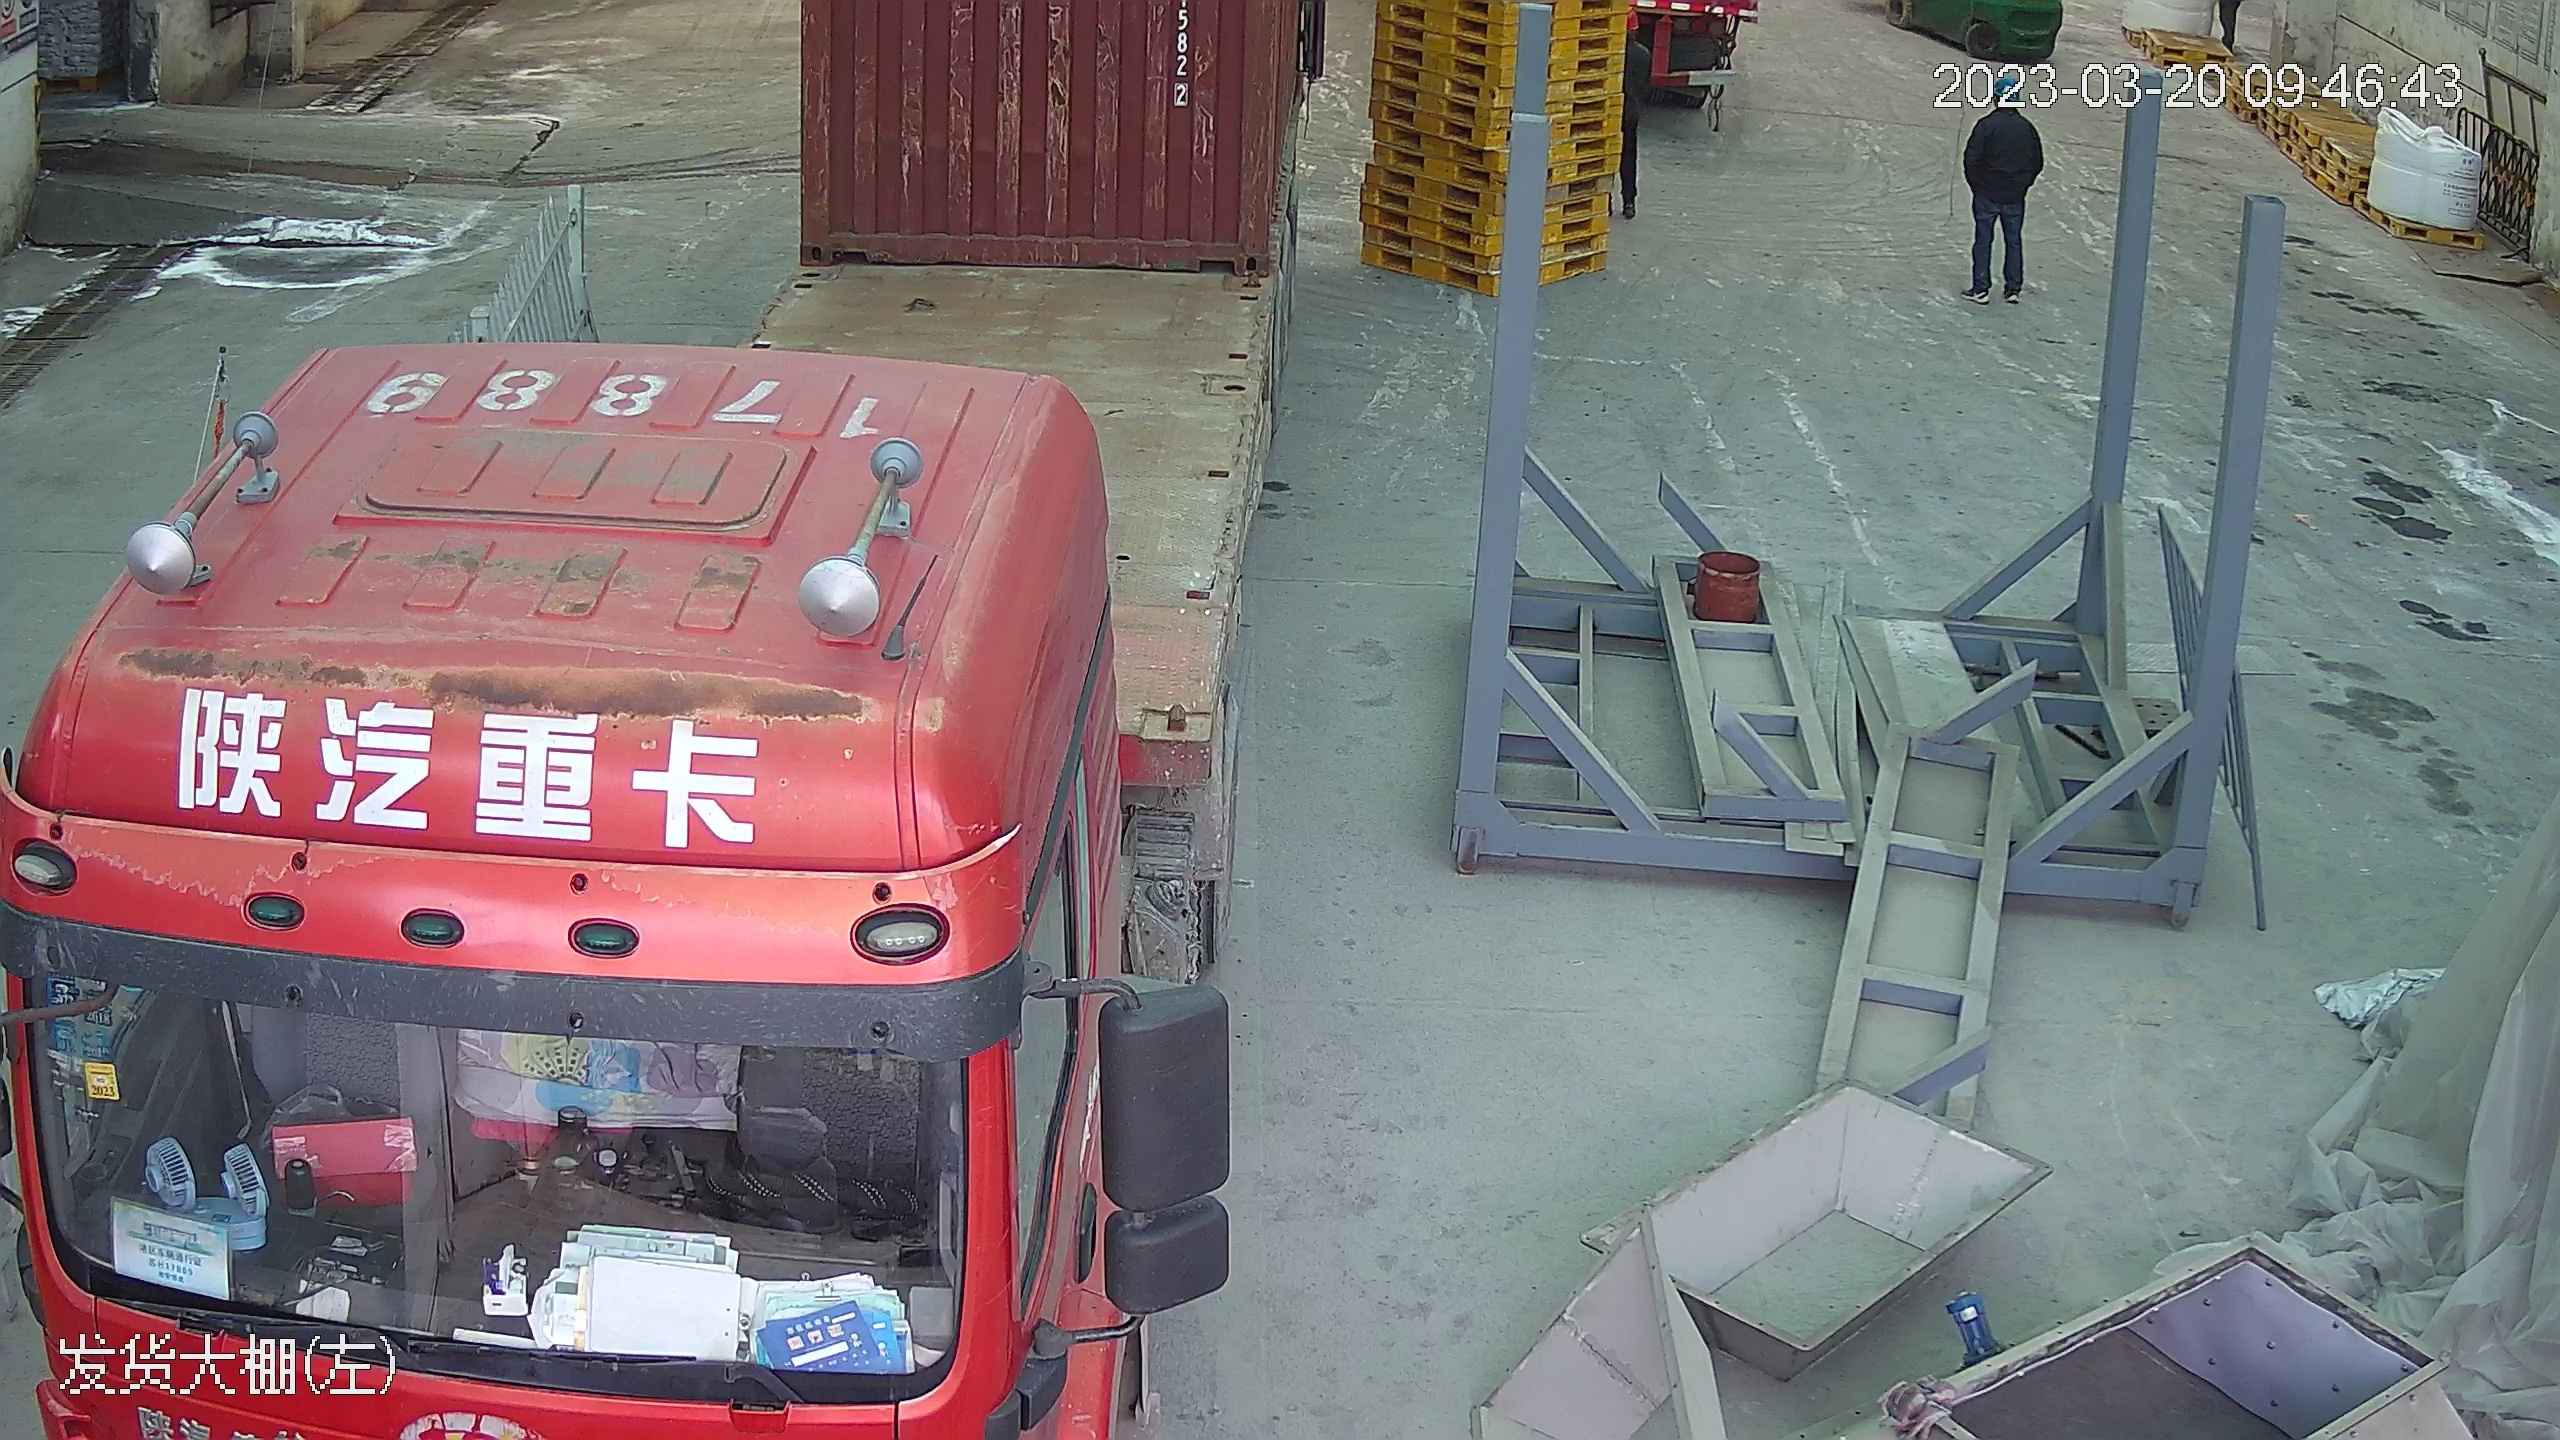head: (1973, 78, 2039, 134)
helmet: (1991, 76, 2022, 103)
people: (1961, 76, 2045, 305)
truck: (9, 1, 1289, 1440)
